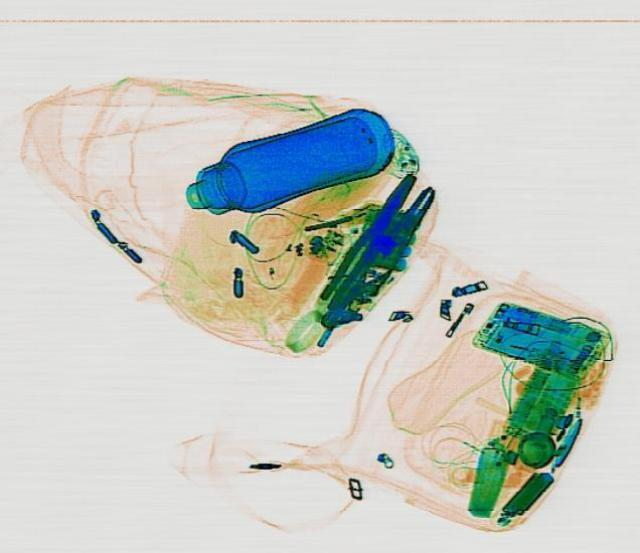Pliers: (320, 178, 448, 321)
